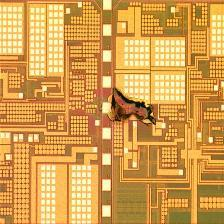PARTICLE: (106, 85, 159, 129)
